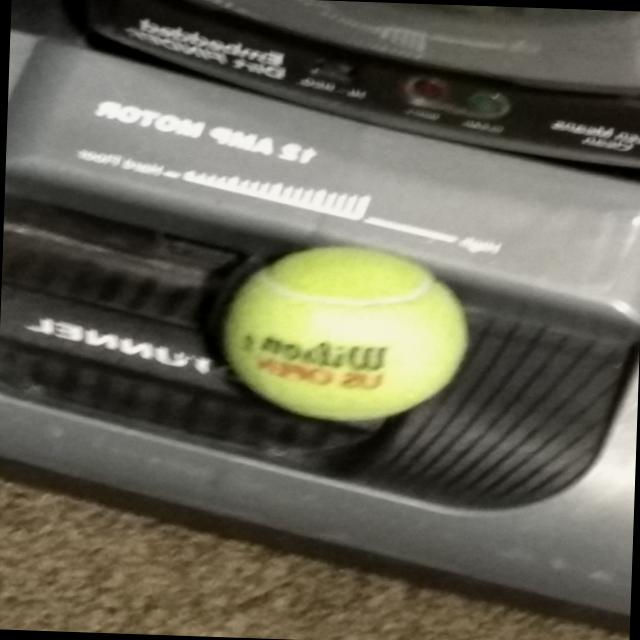Tennis Ball: (219, 242, 472, 424)
